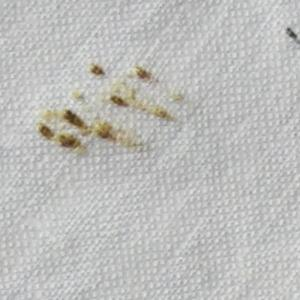Oil Stain: (34, 56, 206, 167)
Stain: (284, 24, 300, 53)
